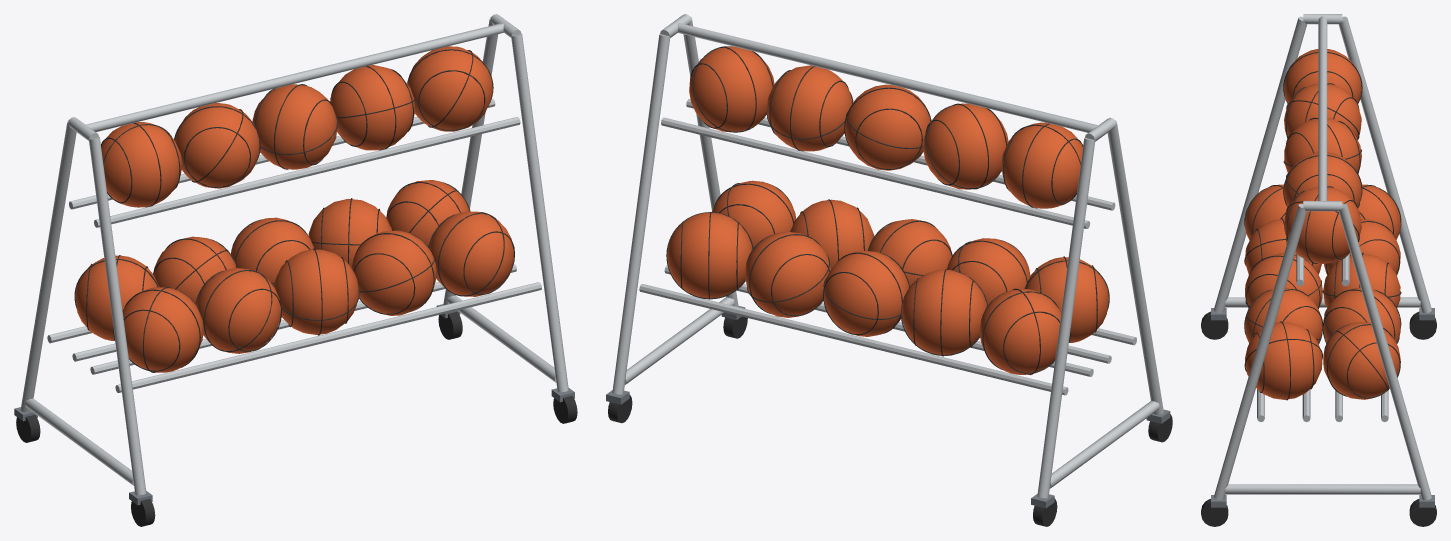
File: vinish-ball-rack.glb
3 renders of one model, left to right at view 1: azimuth 30°, elevation 25°; view 2: azimuth 150°, elevation 25°; view 3: azimuth 270°, elevation 25°, orthographic. The views are drawn at different scales.
Visible parts, largest first — view 1: Ball_Rack; view 2: Ball_Rack; view 3: Ball_Rack.
Part boxes in pixels (box(x1,y1,x2,y2)): Ball_Rack: box(14, 14, 577, 526); Ball_Rack: box(606, 14, 1172, 526); Ball_Rack: box(1201, 14, 1436, 526).
Size of the model in its own units: 1.41 by 1.1 by 0.724.
